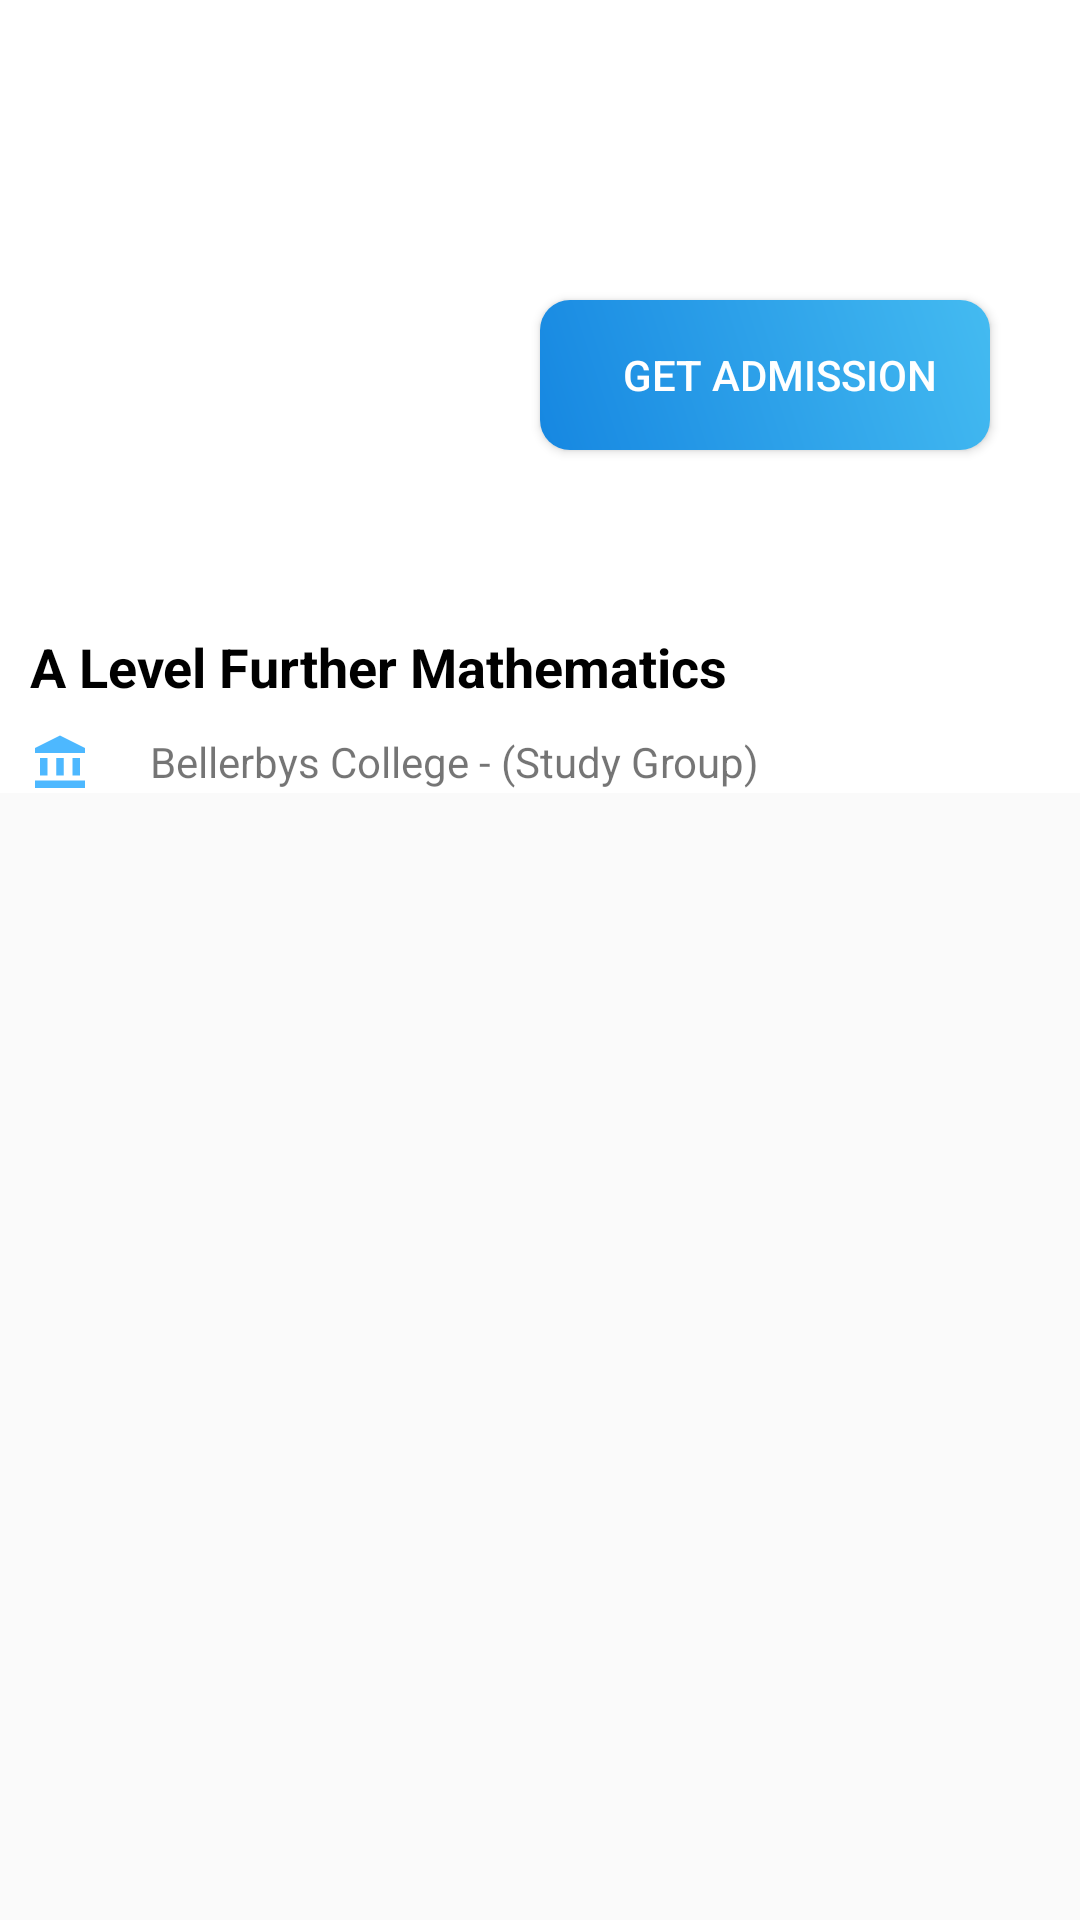

Locate icon controls on the screen. Image size 1080*1920, boxes as bbox=(x1, y1, x2, y2).
university name: bbox=(35, 735, 85, 788)
